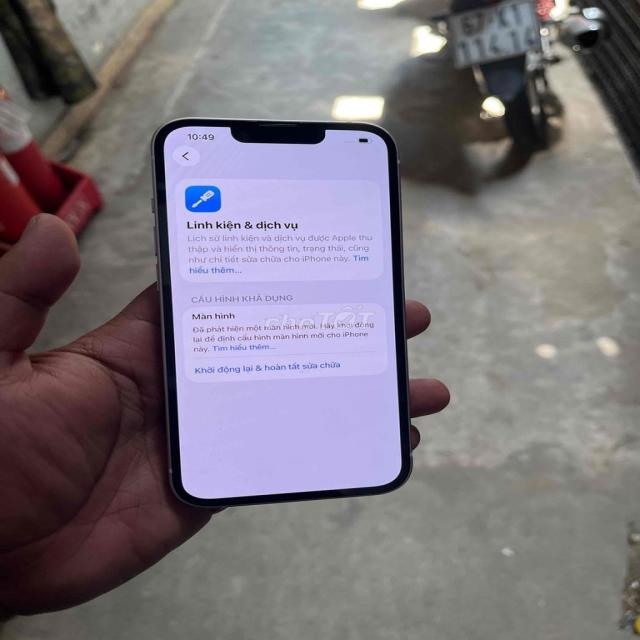gen_12_13: (156, 113, 414, 505)
